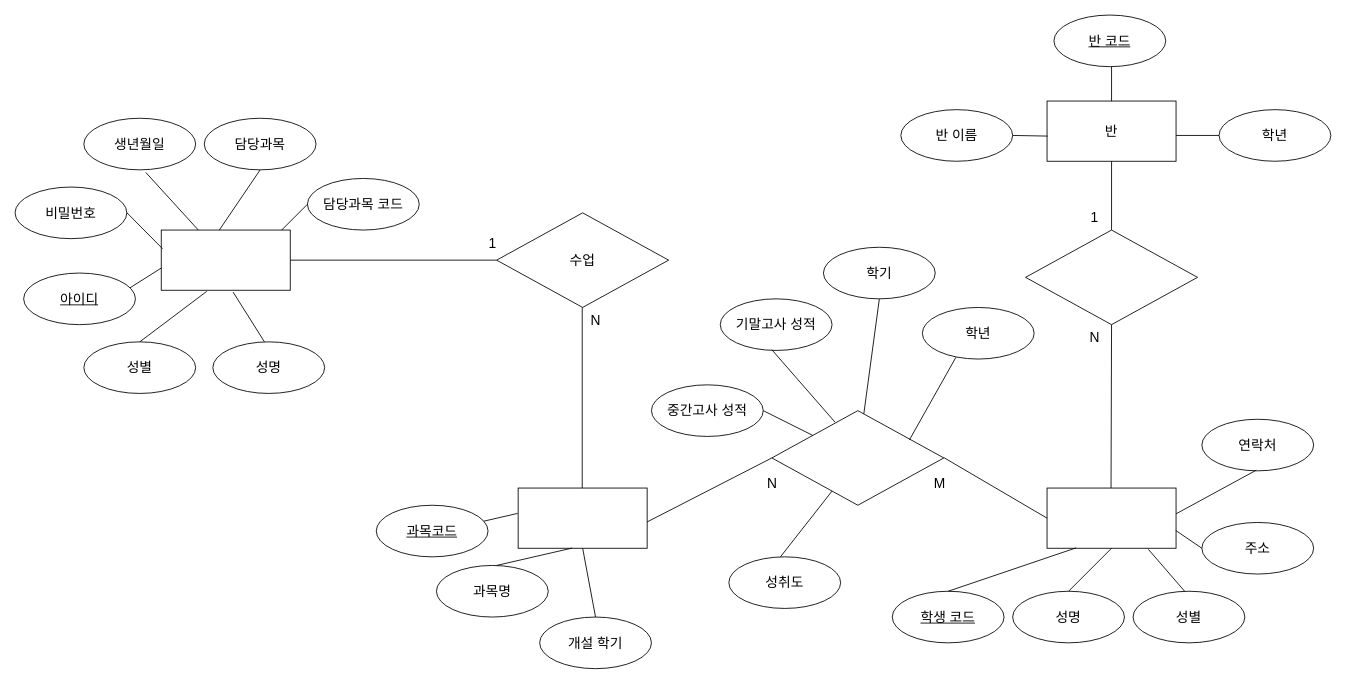
The diagram is 1346 pixels wide and 684 high, and some of its shapes have lost their labels. Here are the shapes that lost their labels. From the top down, the box of each, then its label:
(160, 229, 290, 290): 선생님
(1025, 229, 1198, 325): 소속
(771, 410, 944, 505): 수강
(517, 487, 647, 548): 과목
(1046, 487, 1176, 548): 학생
